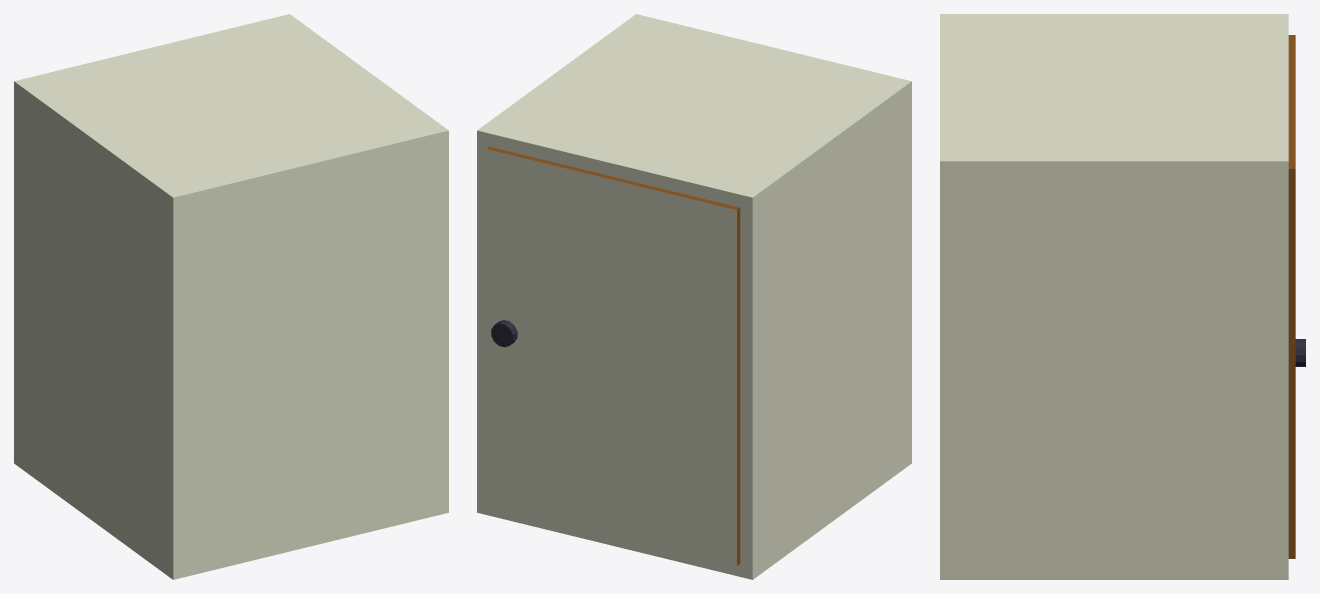
File: placard muraux.fbx
The picture shows the model from 3 angles, left to right: view 1: azimuth 30°, elevation 25°; view 2: azimuth 150°, elevation 25°; view 3: azimuth 270°, elevation 25°; orthographic projection. The views are drawn at different scales.
Visible parts, largest first — view 1: meuble murraux; view 2: meuble murraux; view 3: meuble murraux.
Boxes of the visible parts, box(x1,y1,x2,y2) form: meuble murraux: box(14, 14, 448, 579); meuble murraux: box(477, 14, 911, 579); meuble murraux: box(940, 14, 1305, 579).
Size of the model in its own units: 60 by 79.5 by 62.97.
